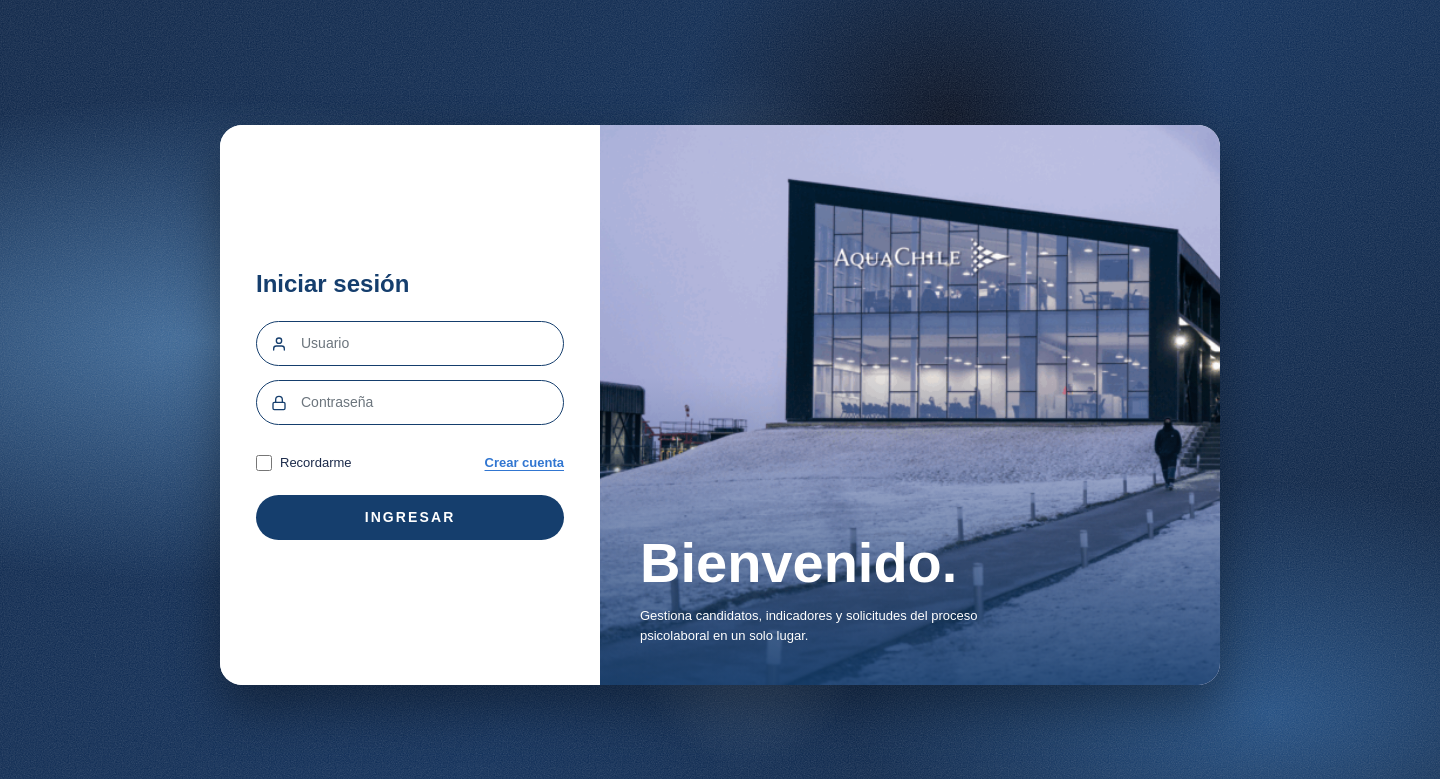
Candidatos: formulario y búsqueda › enviar vacío muestra el error de validación
Type "admin" into the field labelled "Usuario" at (432, 344), box top-left (301, 322), bottom-right (563, 365)
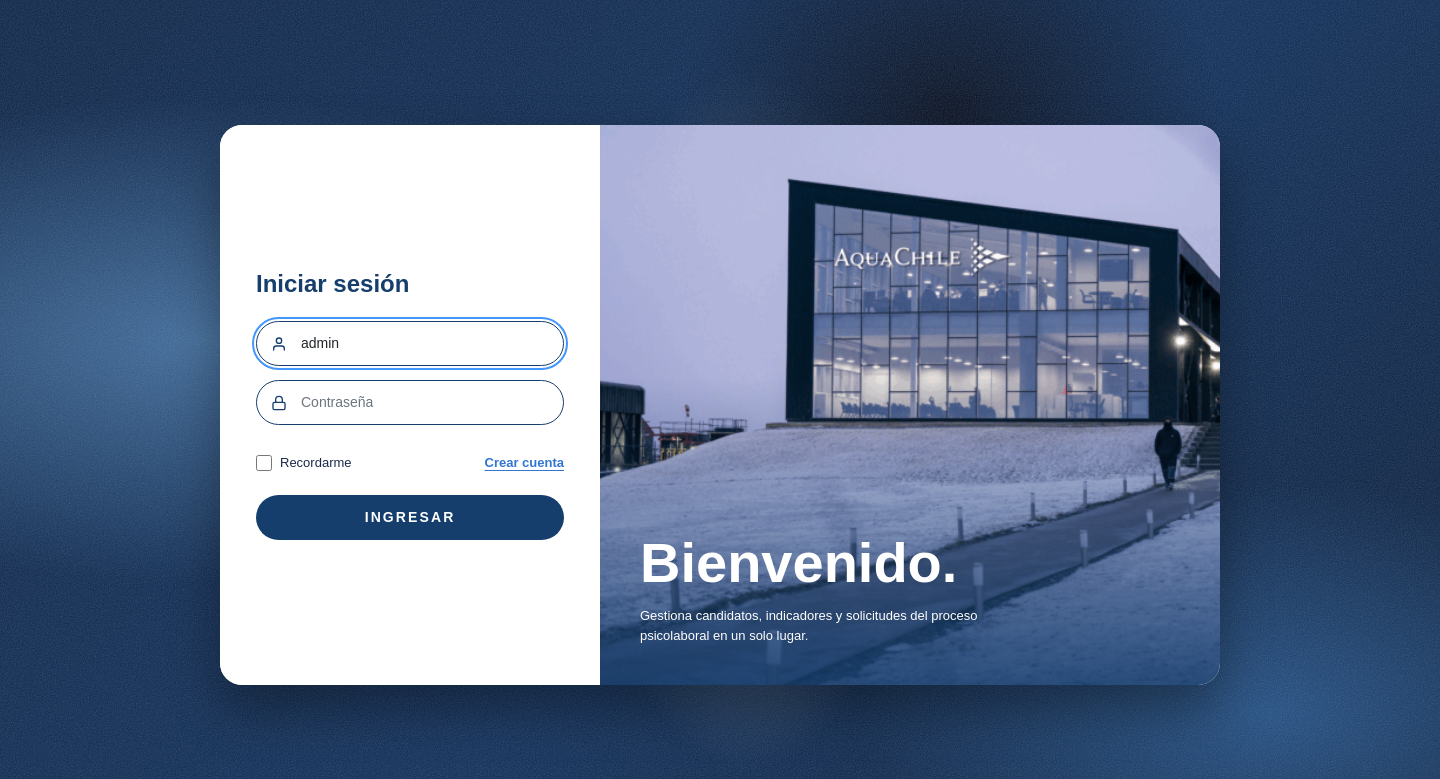
Type "admin123" into the password field labelled "Contraseña" at (432, 403), box top-left (301, 381), bottom-right (563, 424)
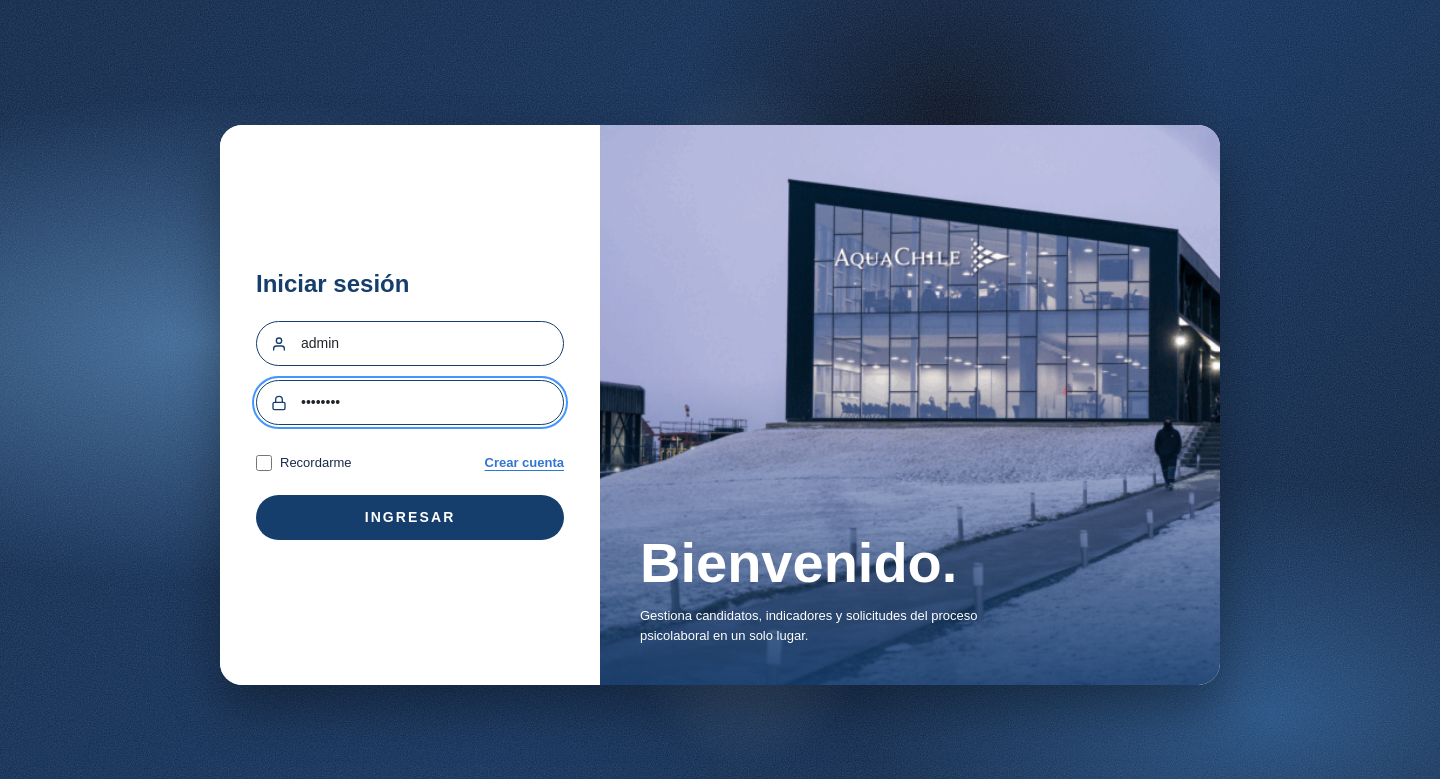
Click the button "INGRESAR" at (410, 517), box top-left (256, 495), bottom-right (564, 540)
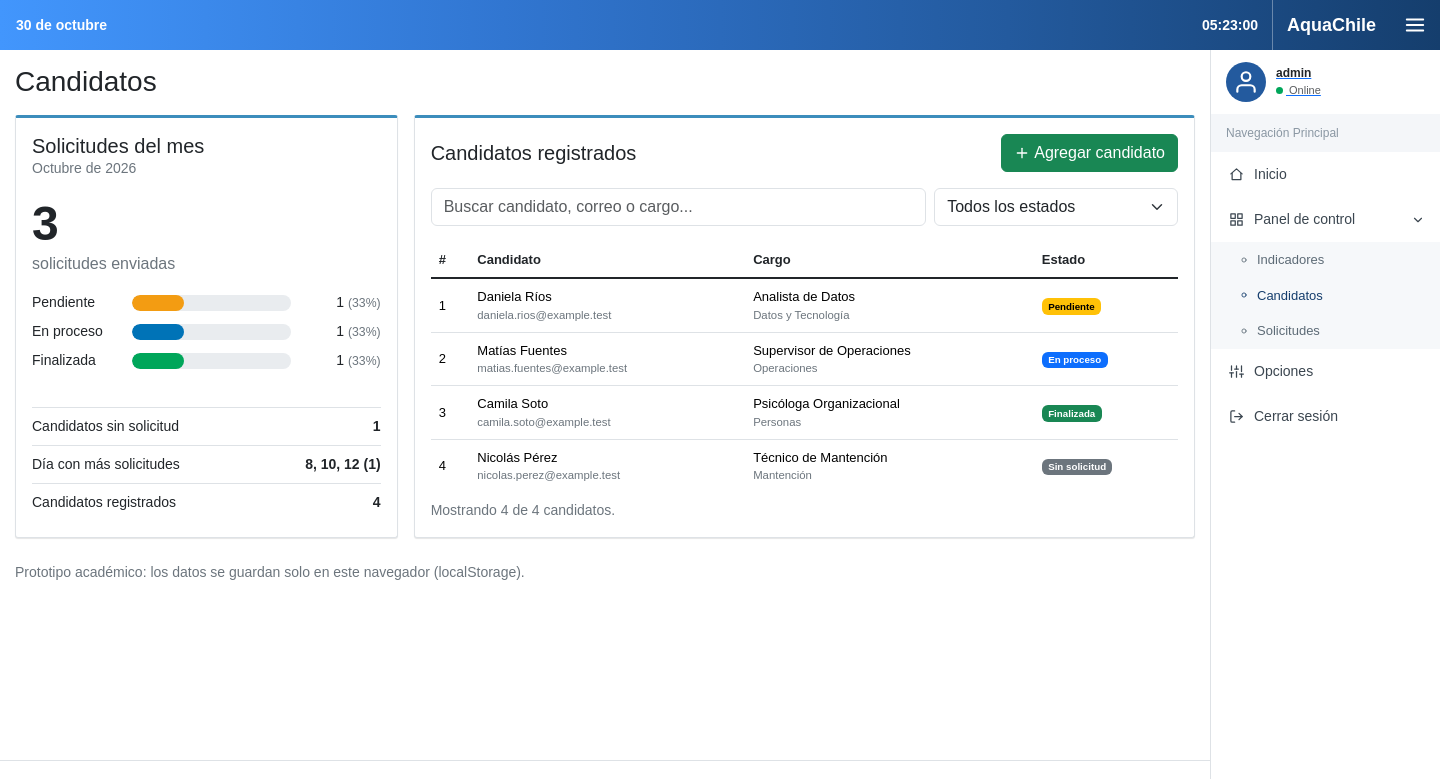
Click the button "Agregar candidato" at (1090, 153), box top-left (1001, 134), bottom-right (1178, 172)
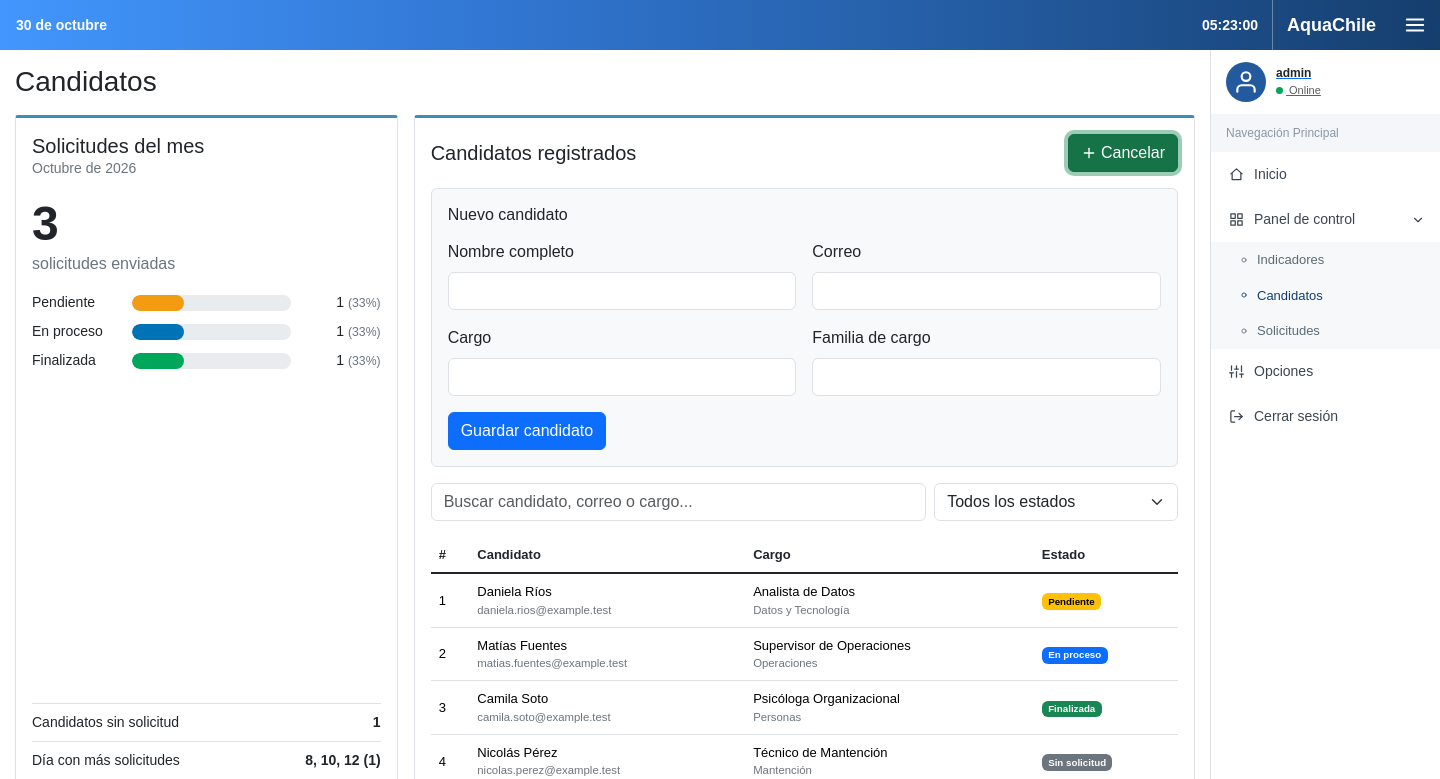
Click the button "Guardar candidato" at (527, 431), box top-left (448, 412), bottom-right (606, 450)
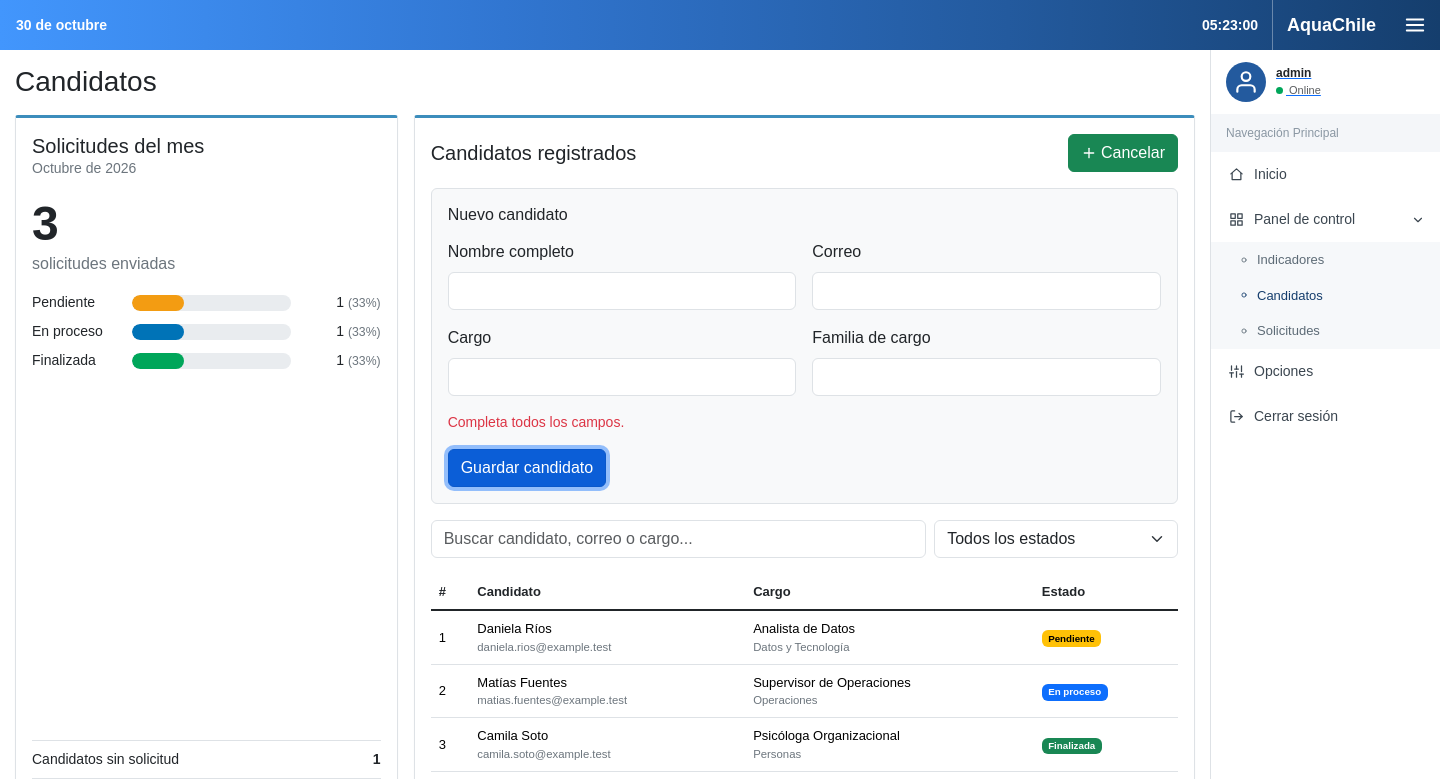
Expected: the message reads "Completa todos los campos.", top-left (448, 414), bottom-right (624, 430)
